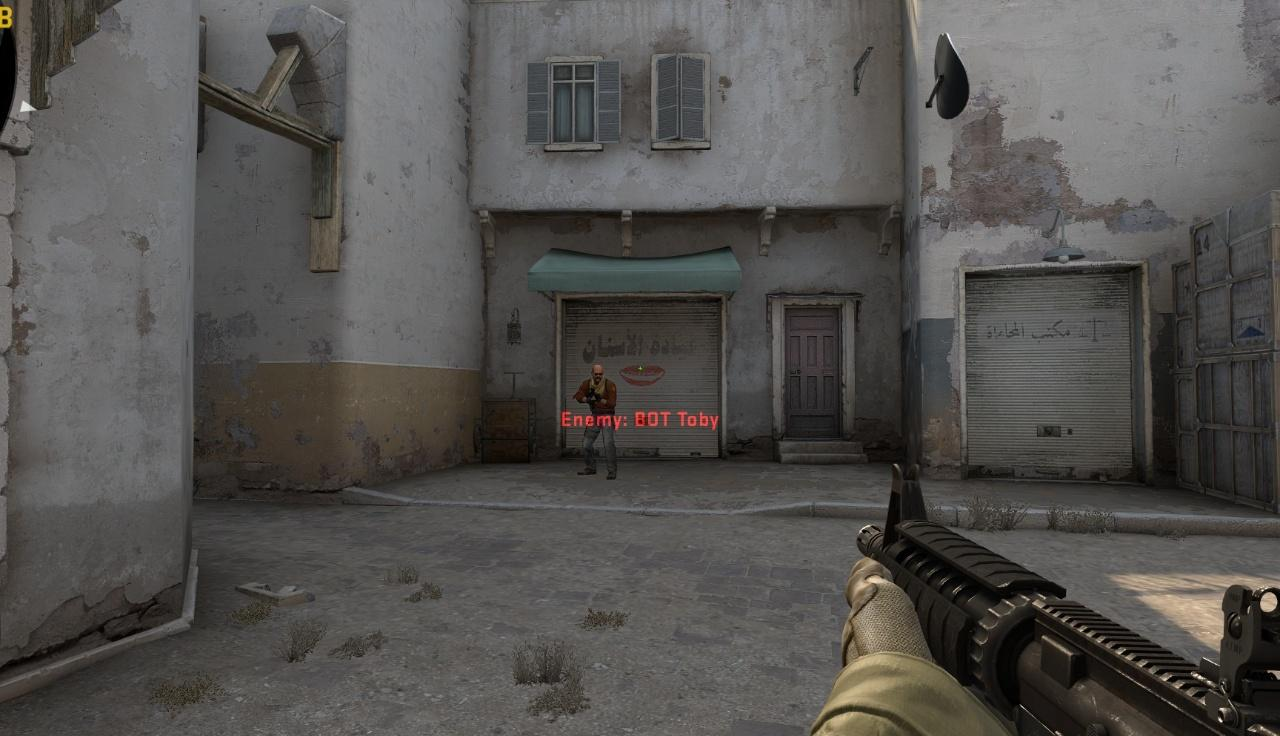rifle: (811, 462, 1280, 736)
tt: (575, 365, 619, 480)
tthead: (592, 365, 603, 382)
